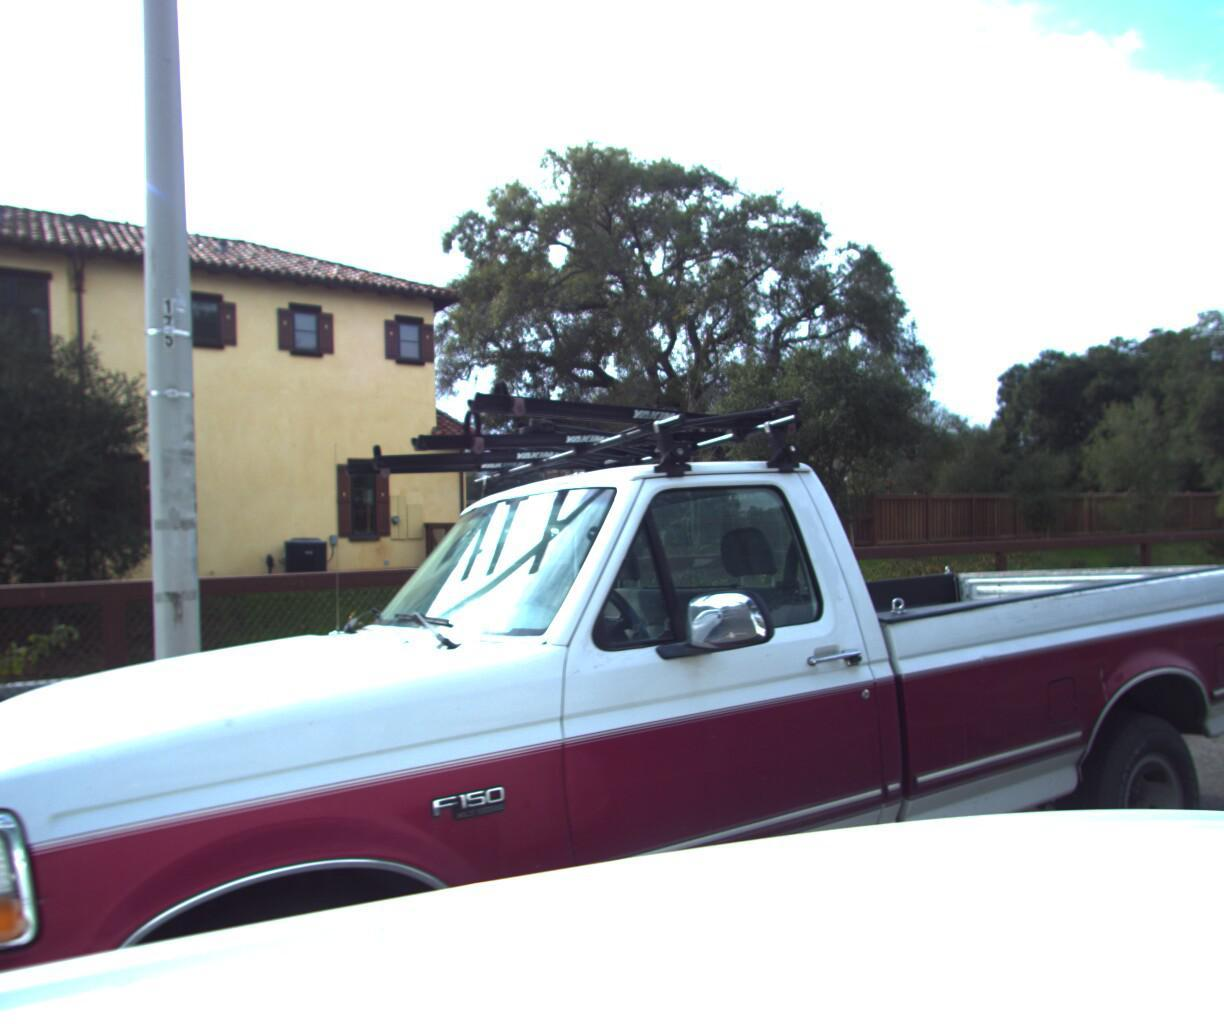car: (0, 256, 1224, 1024)
